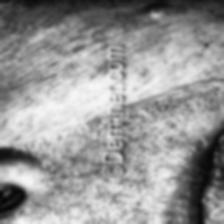Non-Cancerous Skin Condition: (0, 0, 90, 197), (125, 54, 224, 196)
